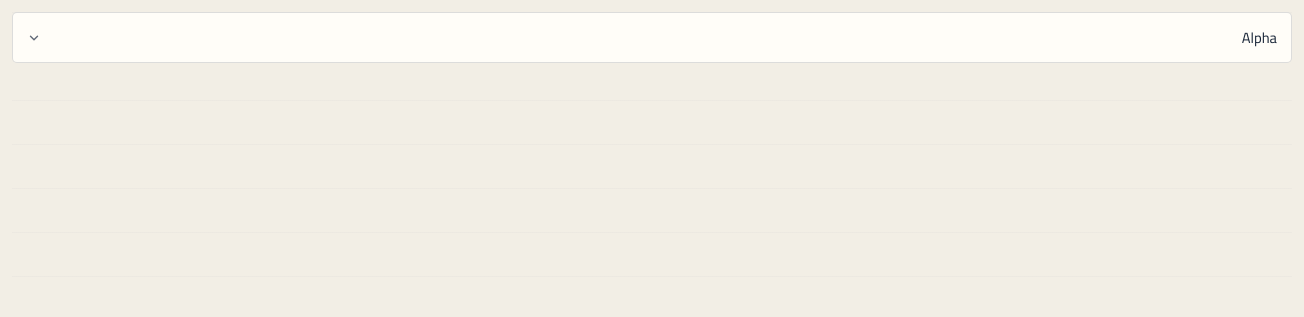
Select — mouse › closes on an outside pointer press without committing
Click the dropdown named "Test select" at (1259, 38), box [12,12,1292,63]
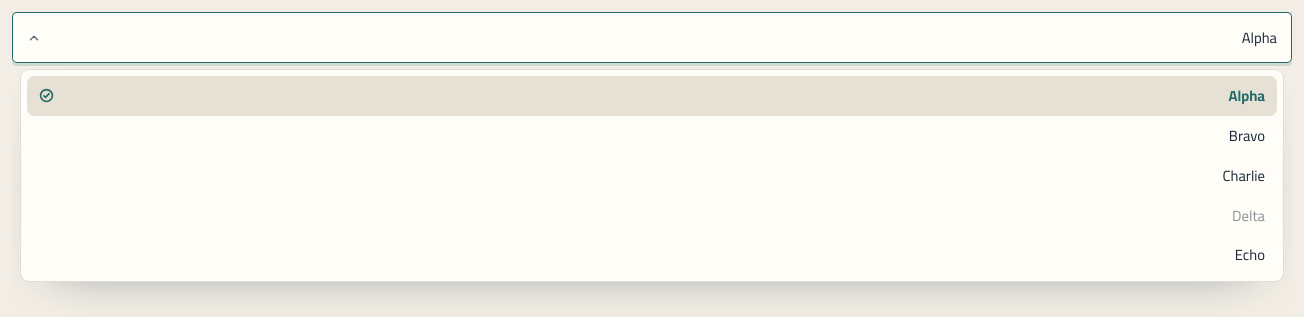
Press the mouse on the element showing "Alpha Alpha Bravo Charlie Delta Echo" at (652, 38), box [12,12,1292,63]
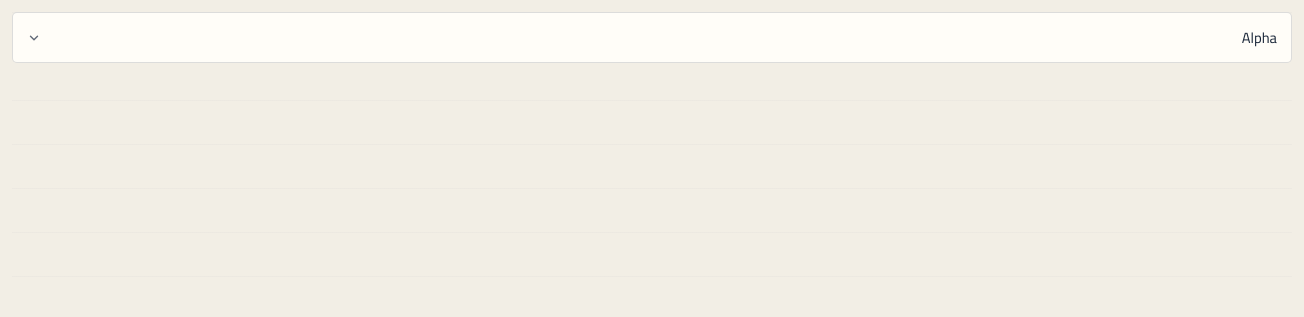
Now the list is gone
